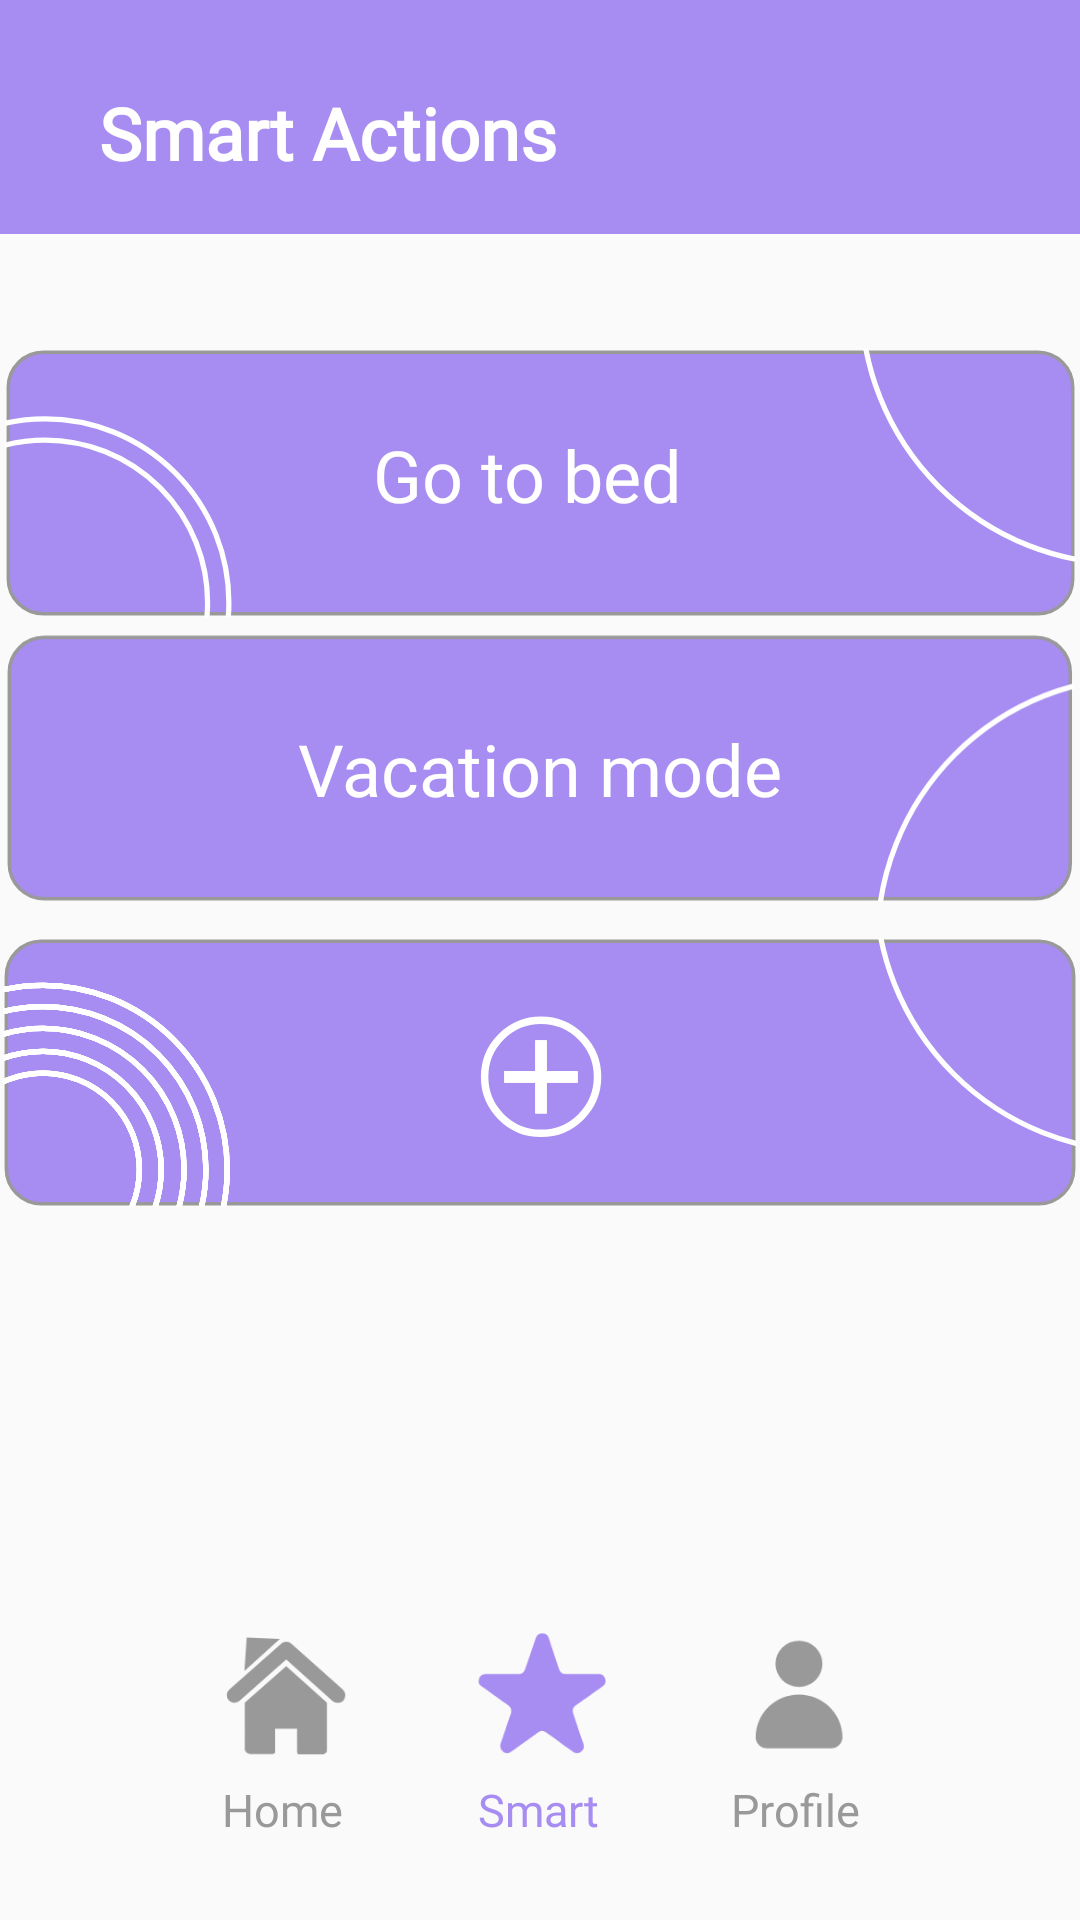

Icons on this 1080*1920 Android screen, each with its box as (x1,y1,x2,y2):
plus: (481,1016,602,1137)
